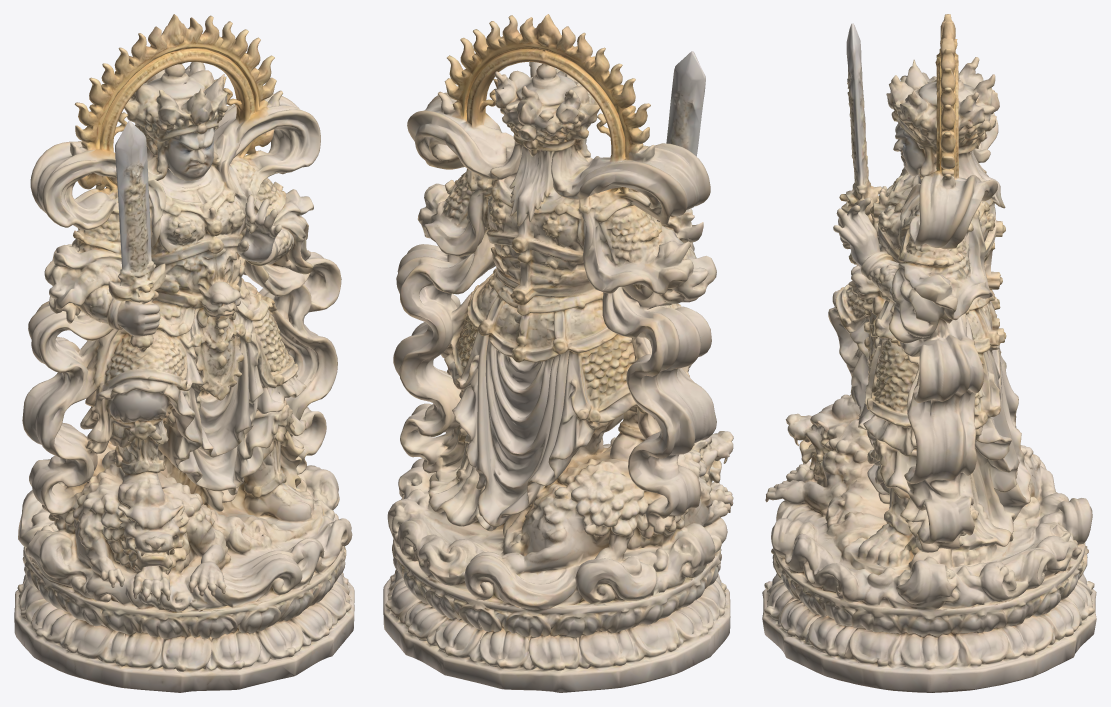
3 views of the same model, side by side, from view 1: azimuth 30°, elevation 25°; view 2: azimuth 150°, elevation 25°; view 3: azimuth 270°, elevation 25° (orthographic). The views are drawn at different scales.
Visible parts, largest first — view 1: four-heavenly-kings-02; view 2: four-heavenly-kings-02; view 3: four-heavenly-kings-02.
Part boxes in pixels (box(x1,y1,x2,y2)): four-heavenly-kings-02: box(14, 14, 354, 692); four-heavenly-kings-02: box(383, 14, 733, 692); four-heavenly-kings-02: box(762, 14, 1096, 692).
Bounding box in the file's own units: 0.5271 × 1 × 0.5043.
Materials: 1 (1 with a texture image).
